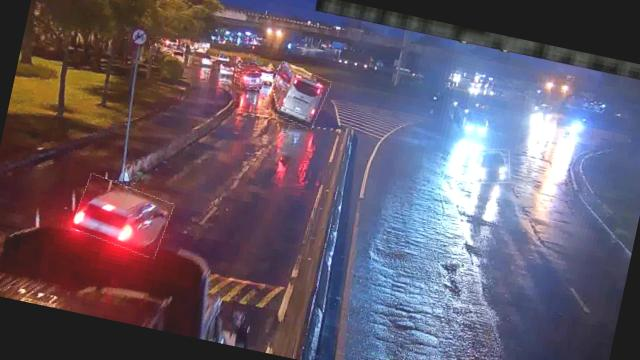Bus: (263, 62, 331, 129)
Car: (71, 174, 174, 256), (467, 144, 514, 188), (239, 70, 265, 92)
